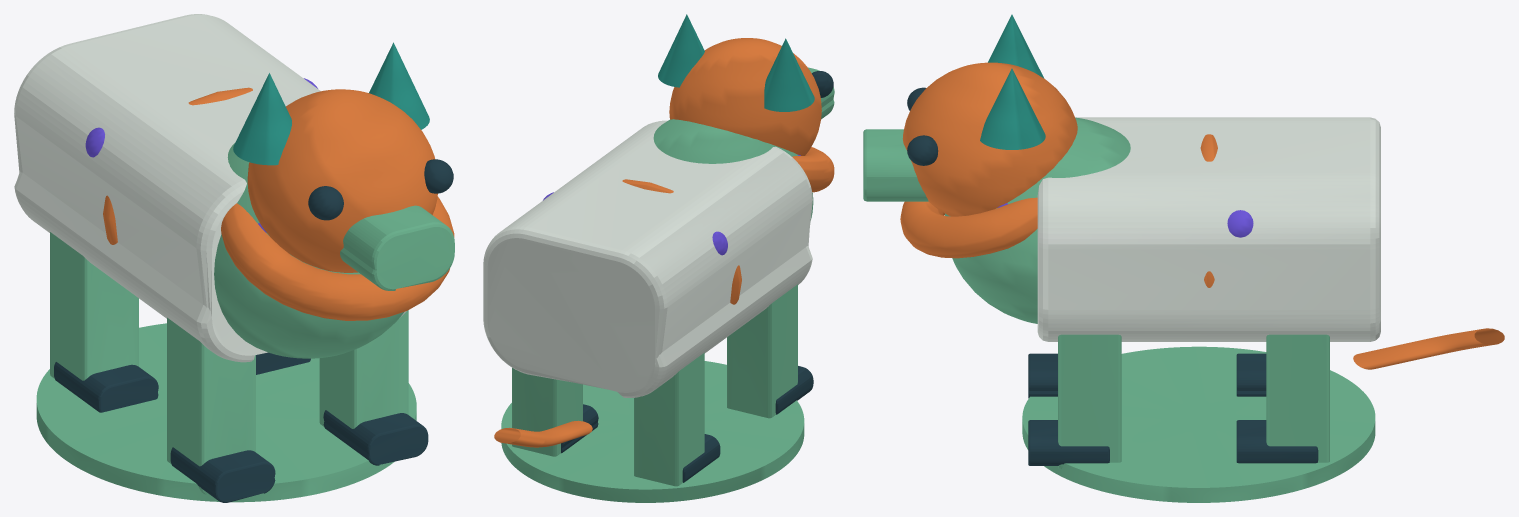
Rendered from 0941_国宝动物图鉴_朱鹮.glb.
The picture shows the model from 3 angles, left to right: view 1: azimuth 30°, elevation 25°; view 2: azimuth 150°, elevation 25°; view 3: azimuth 270°, elevation 25°; orthographic projection. The views are drawn at different scales.
Parts seen in each view (by area): view 1: card_0941; view 2: card_0941; view 3: card_0941.
Boxes of the visible parts, x1,y1,x2,y2 form: card_0941: [14, 14, 454, 502]; card_0941: [483, 14, 834, 502]; card_0941: [863, 14, 1504, 502].
Size of the model in its own units: 0.7738 by 1 by 1.49.
